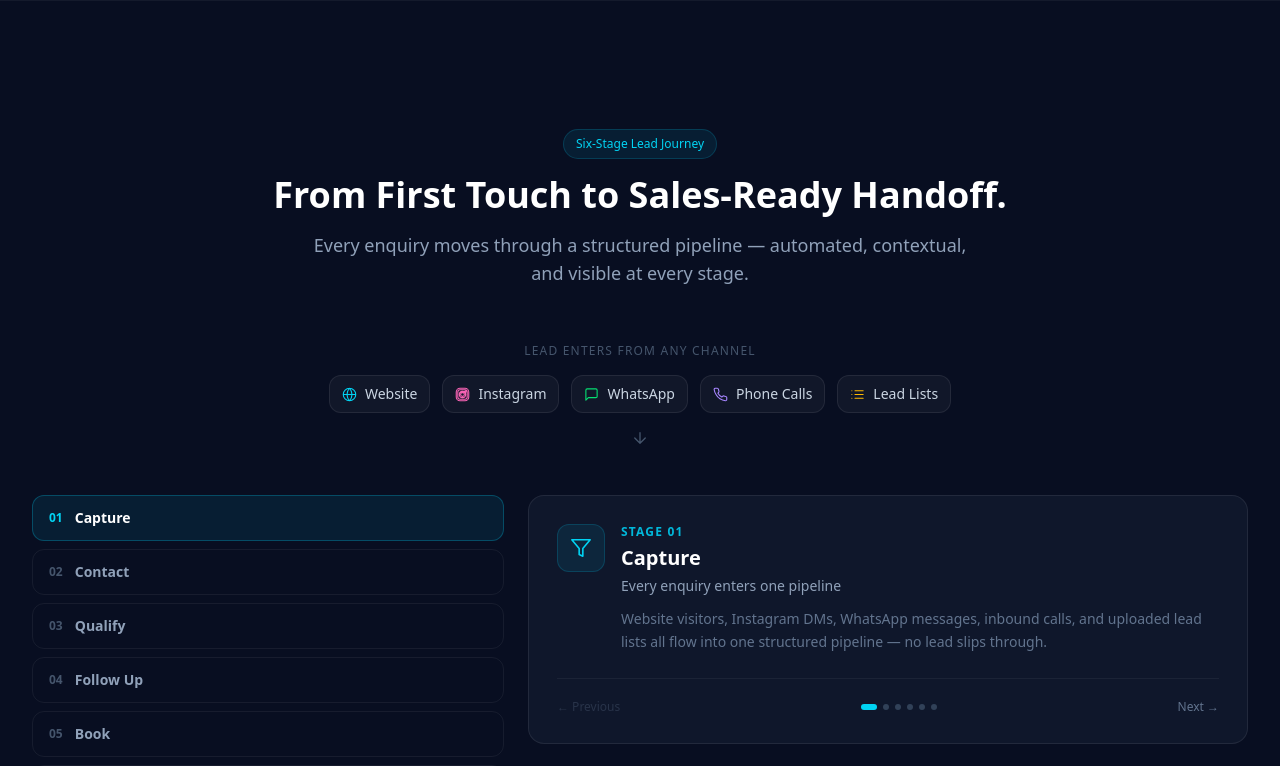
Scenario: Workflow › switches to the clicked stage detail
Click the button "03 Qualify" at (100, 626), box [32,603,504,649]
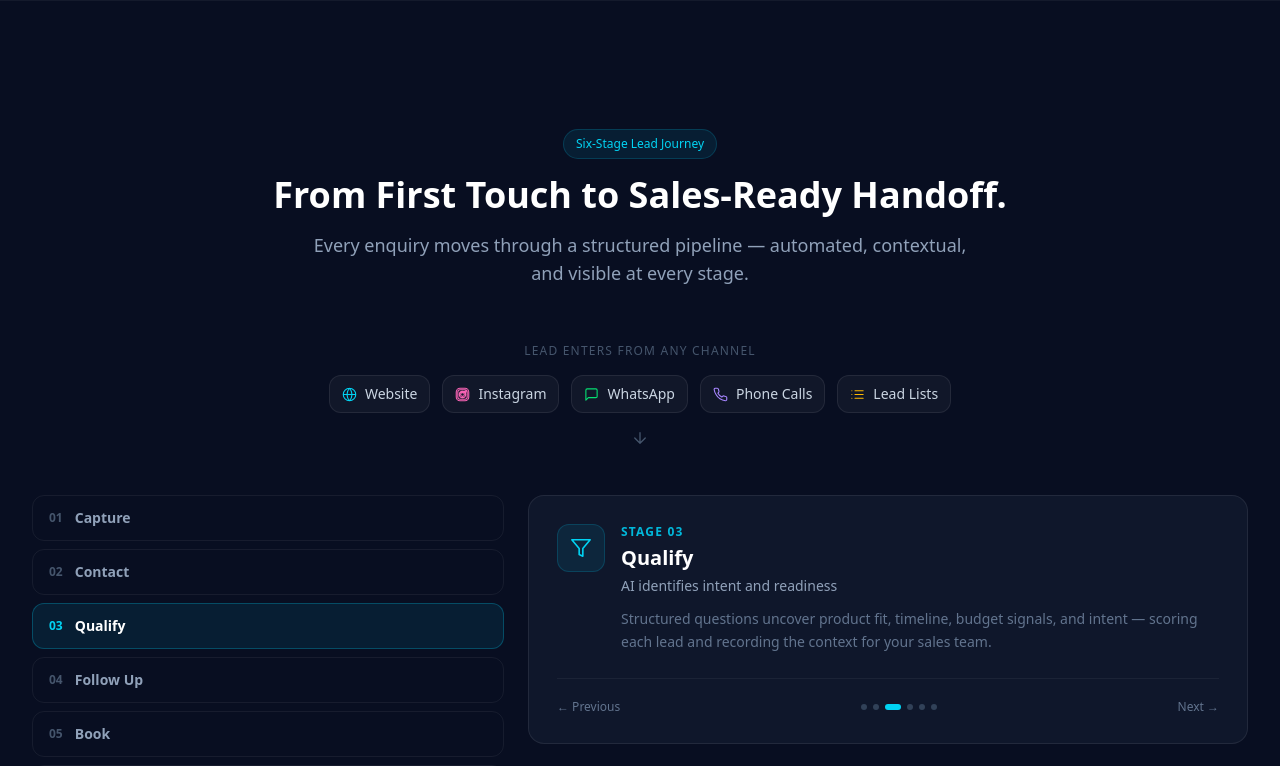
Check: the text "Structured questions uncover product fit, timeline, budget signals, and intent — scoring each lead and recording the con" is shown, box [621,609,1198,651]
